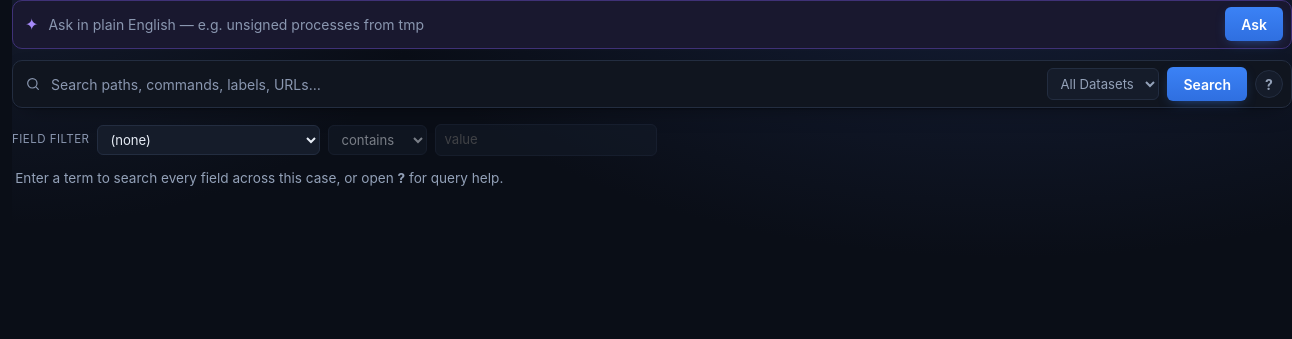
Search › runs a free-text query and shows matching rows
In the field named "query": [544, 84] box [49,72,1040,96], type "/private/tmp"
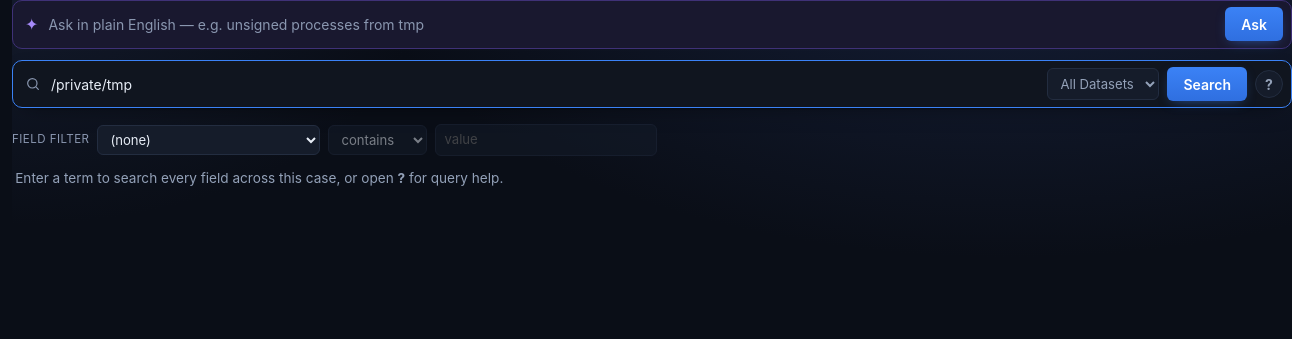
Click the button "Search": [1207, 84] box [1168,67,1247,101]
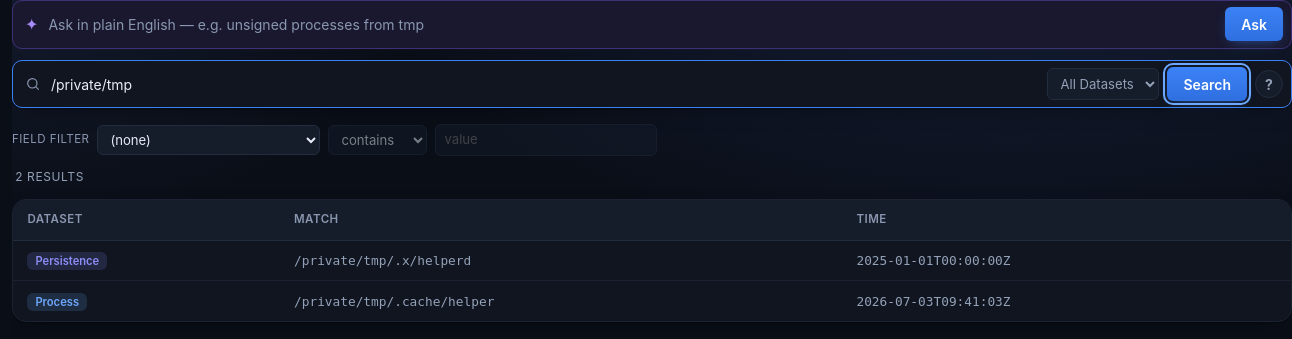
Expected: the button with test id "search-row" that starts with "persistence" is shown, [13,240,1291,281]
